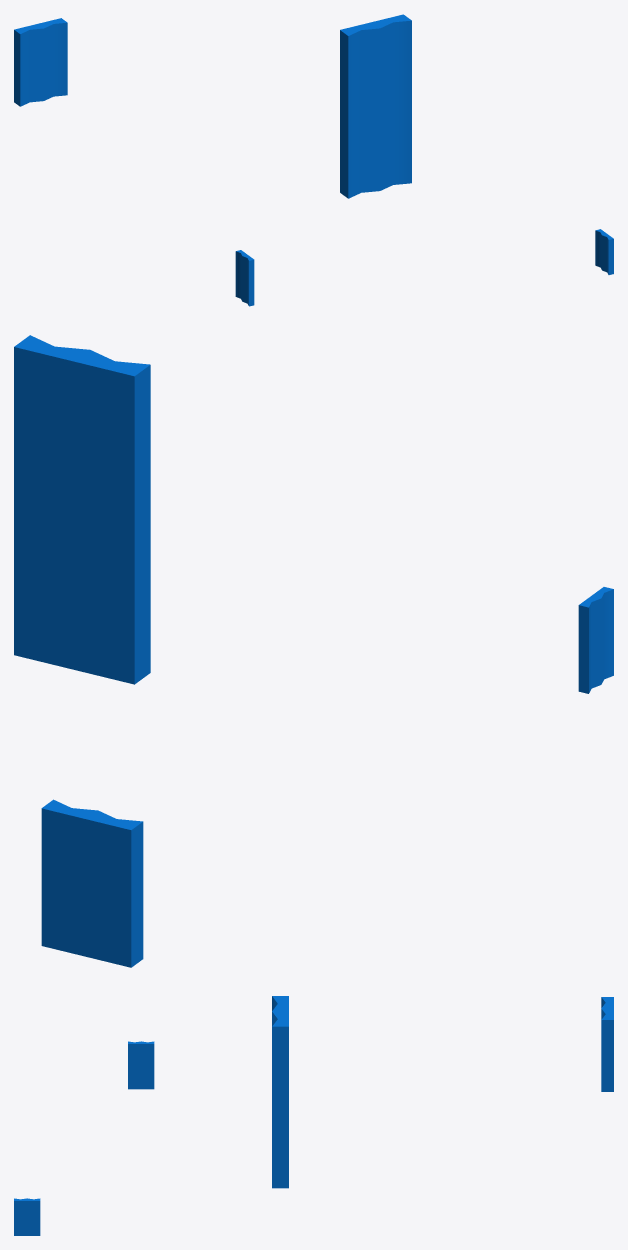
File: climbable.fbx
The picture shows the model from 3 angles, top to bottom: view 1: azimuth 30°, elevation 25°; view 2: azimuth 150°, elevation 25°; view 3: azimuth 270°, elevation 25°; orthographic projection. The views are drawn at different scales.
Parts seen in each view (by area): view 1: climbable; view 2: climbable; view 3: climbable.
Boxes of the visible parts, x1,y1,x2,y2 form: climbable: (14,14,613,306); climbable: (14,335,613,967); climbable: (14,996,613,1235).
Bounding box in the file's own units: 16.71 × 9.13 × 28.46.
